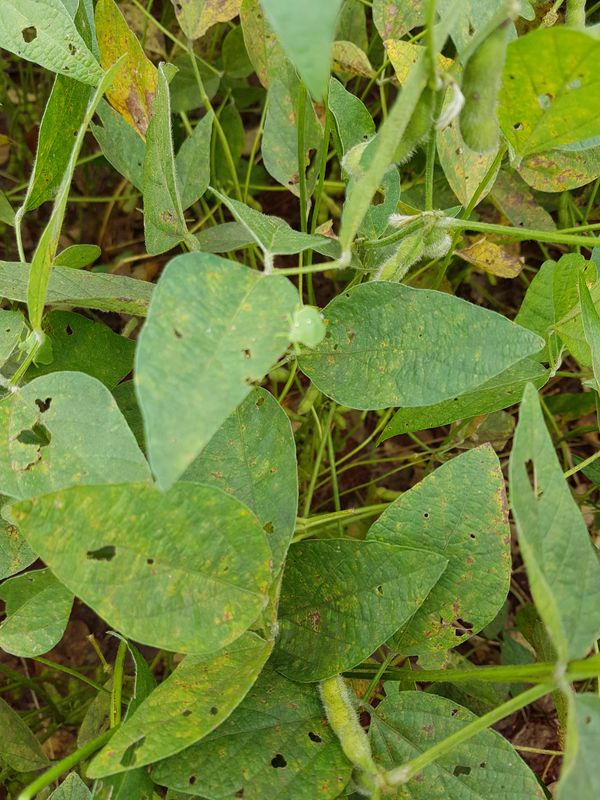Nezara_viridula_adulto: (267, 296, 342, 362), (3, 314, 67, 380)
